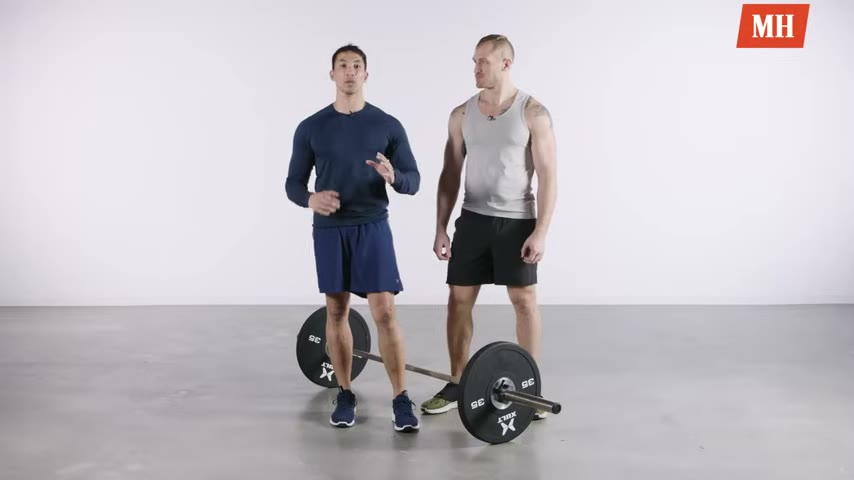barbell_plate_side: (501, 339, 563, 452), (291, 304, 332, 433)
